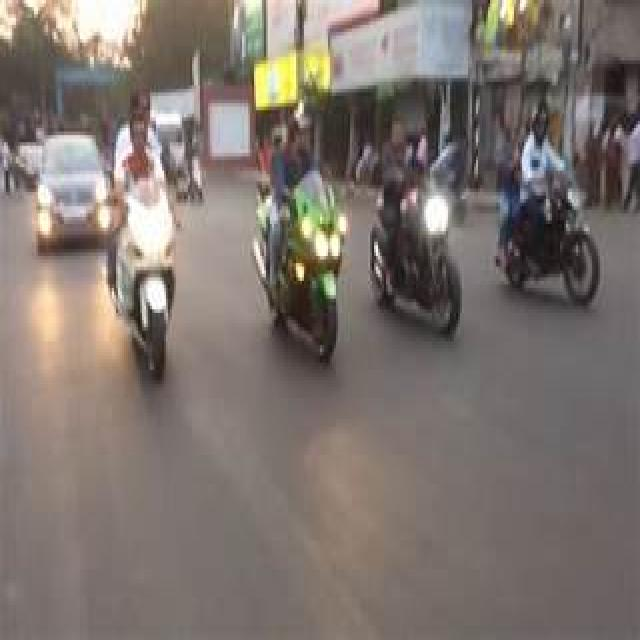Car: (35, 138, 109, 250)
Two Wheeler: (251, 171, 348, 359), (108, 151, 176, 377), (370, 182, 461, 337), (502, 180, 600, 303)
